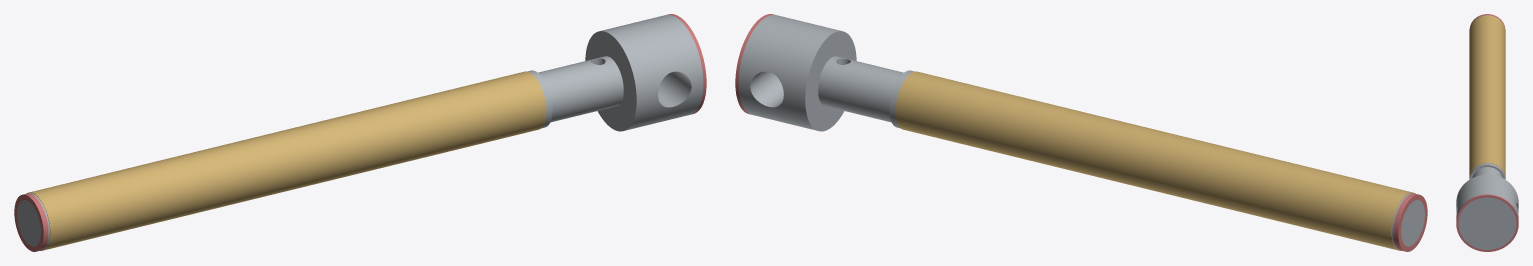
The model's file is step_17.glb.
The picture shows the model from 3 angles, left to right: view 1: azimuth 30°, elevation 25°; view 2: azimuth 150°, elevation 25°; view 3: azimuth 270°, elevation 25°; orthographic projection. The views are drawn at different scales.
Parts seen in each view (by area): view 1: overlay, part__lead screw, removed__lead screw; view 2: overlay, part__lead screw, removed__lead screw; view 3: overlay, part__lead screw, removed__lead screw.
Part boxes in pixels (x1,y1,x2,y2): overlay: (26,71,546,250); part__lead screw: (17,14,703,250); removed__lead screw: (14,14,706,251); overlay: (895,71,1415,250); part__lead screw: (738,14,1424,250); removed__lead screw: (735,14,1427,251); overlay: (1469,15,1505,179); part__lead screw: (1456,15,1518,249); removed__lead screw: (1456,14,1518,251).
Bounding box in the file's own units: 205 × 27.98 × 28.
